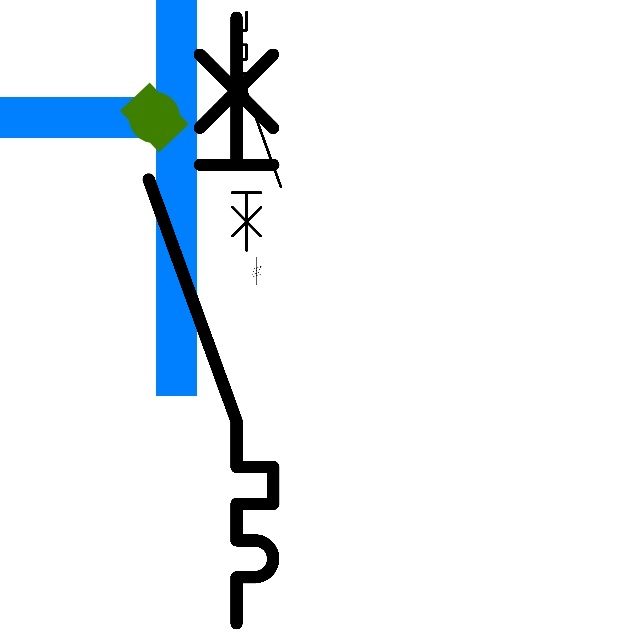interruptor_termomagnetico: (133, 2, 289, 639), (226, 6, 287, 257)
